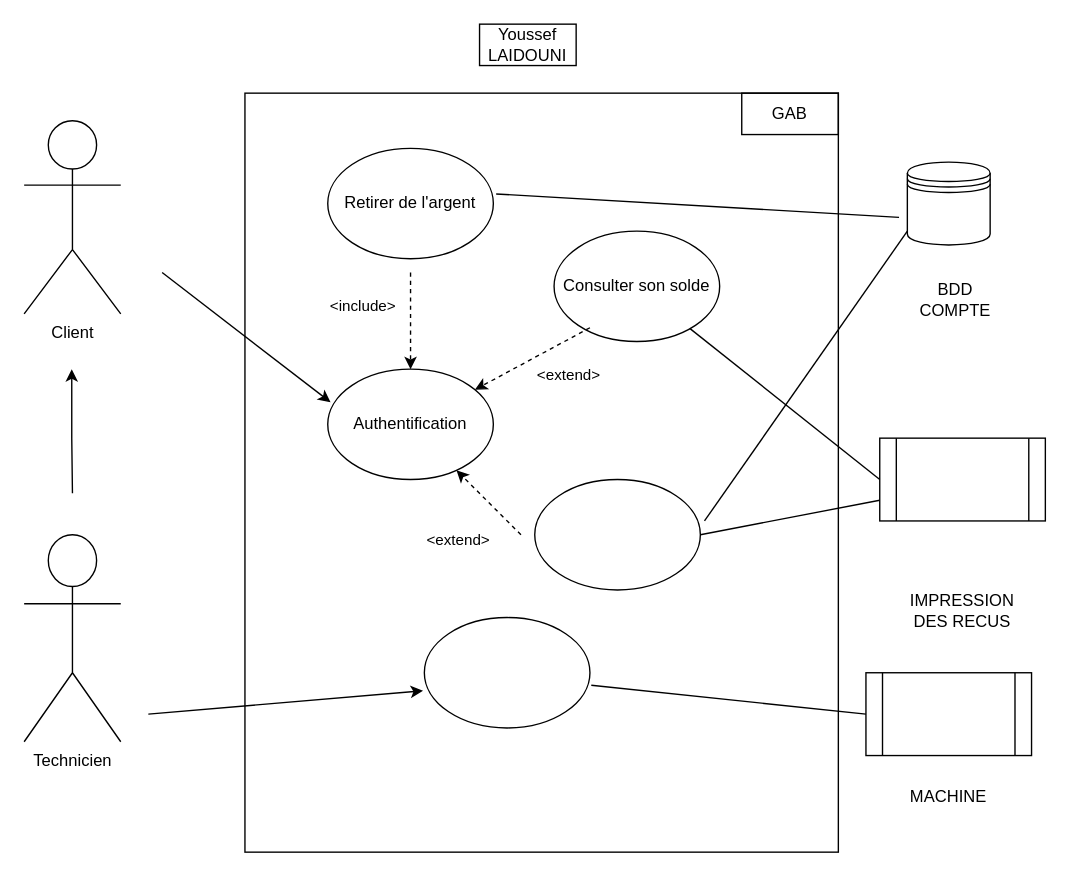
This 1070x876 diagram has some shape labels left out. The box of each missing label's shape, as (x1, y1, x2, y2) in pixels:
Déposer de l'argent: (533, 478, 700, 590)
Mise a jour Logiciel: (423, 616, 590, 728)
